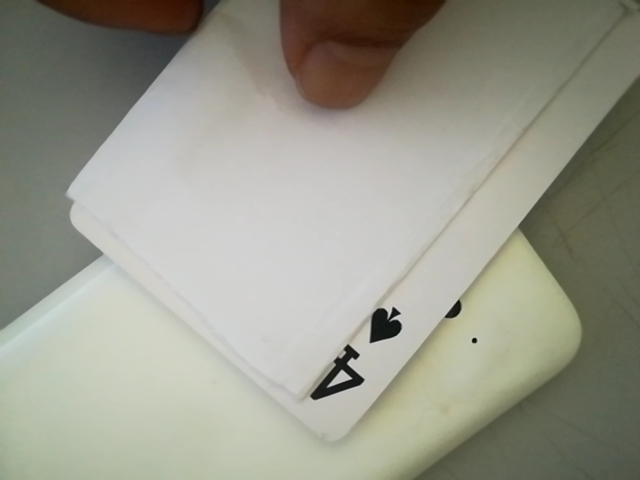ht 4: (297, 296, 421, 418)
